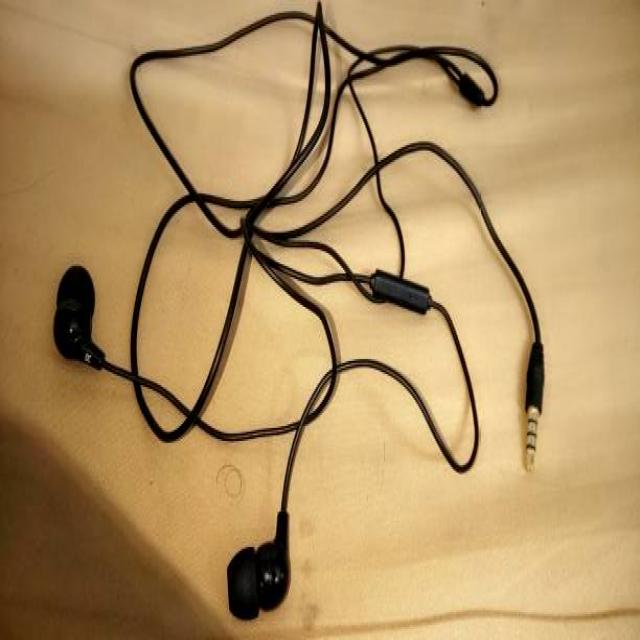Earphone: (52, 1, 546, 624)
